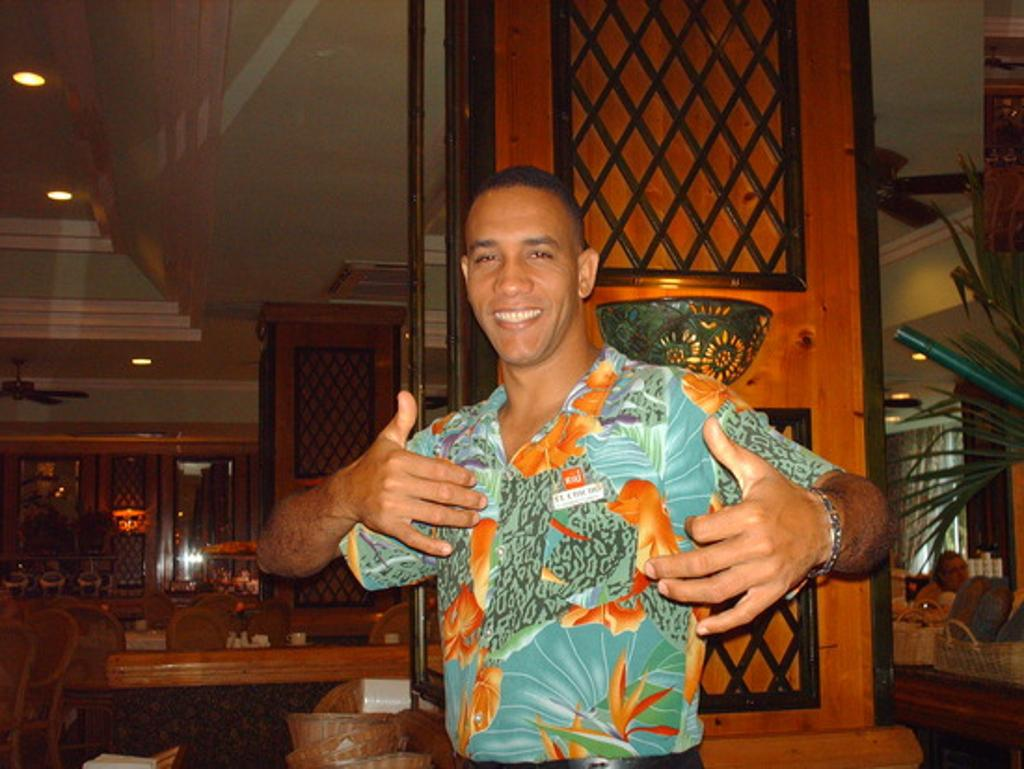face: (467, 187, 581, 363)
